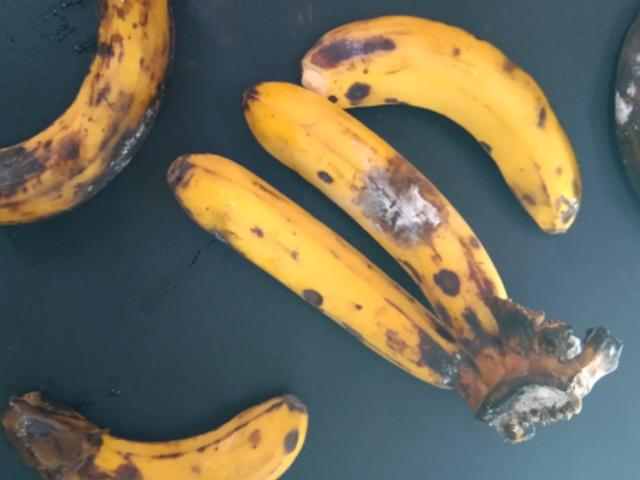ripe: (170, 148, 469, 412), (308, 7, 583, 242)
rotten: (4, 0, 178, 240), (0, 380, 342, 479), (599, 2, 639, 212)
